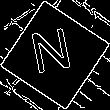N_S: (31, 26, 79, 84)
